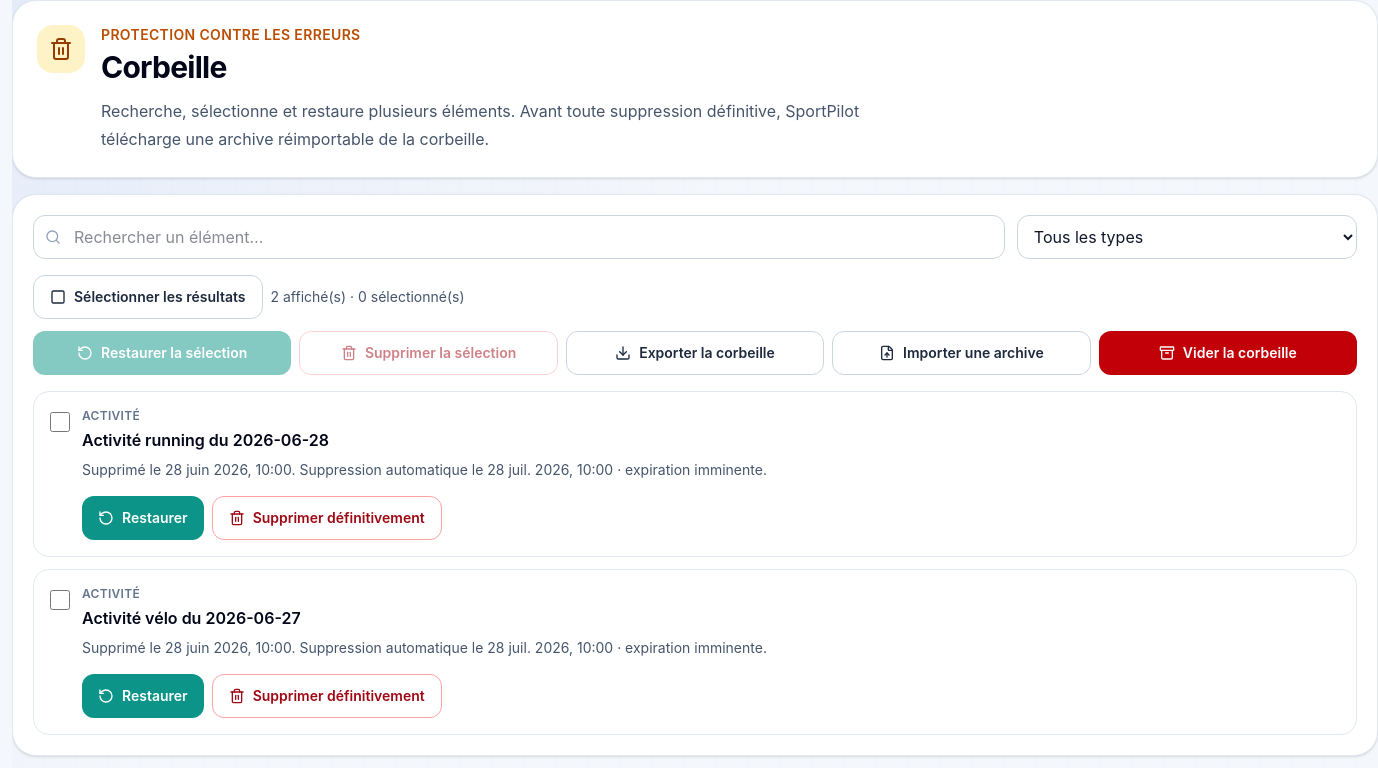
Scenario: TrashPage › recherche et sélectionne plusieurs éléments
The width and height of the screenshot is (1378, 768).
Expected: the heading "Activité running du 2026-06-28" is shown, [82, 430, 329, 450]
Step 1. Type "vélo" into the search field named "Rechercher dans la corbeille" → (519, 237), box [33, 215, 1005, 259]
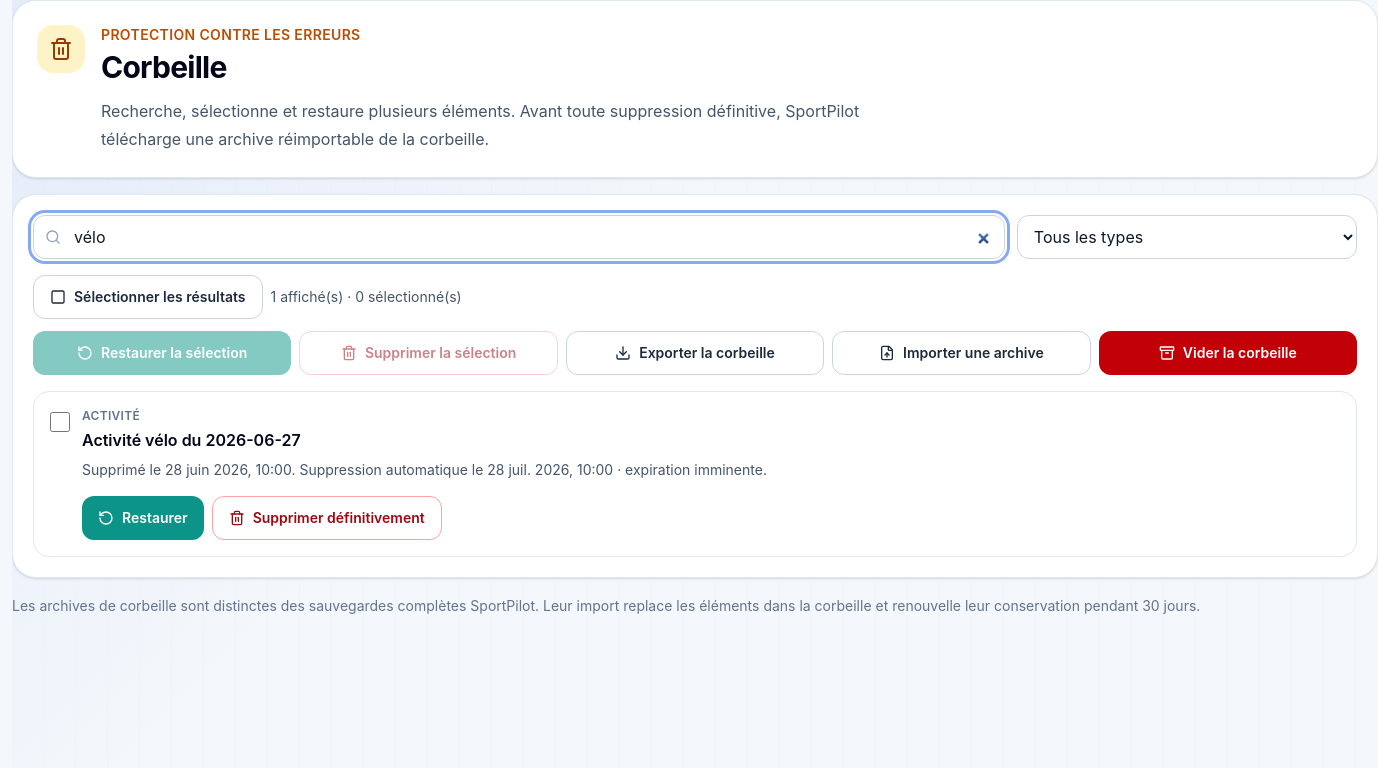
Expected: the heading "Activité vélo du 2026-06-27" is shown, [82, 430, 301, 450]
Result: the heading "Activité running du 2026-06-28" is gone
Step 2. Click the button "Sélectionner les résultats" → (148, 297), box [33, 275, 262, 319]
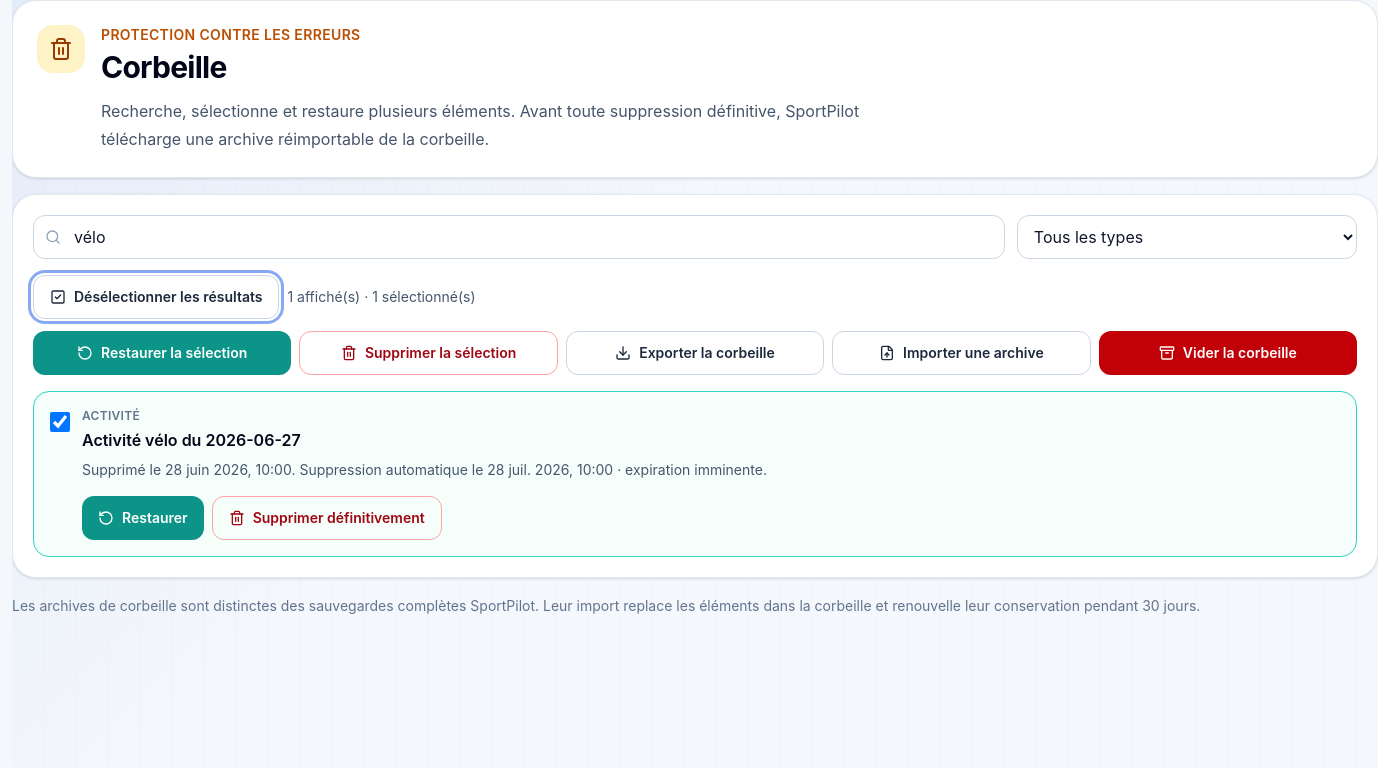
Result: the text "1 affiché(s) · 1 sélectionné(s)" is shown at [288, 287, 476, 307]
